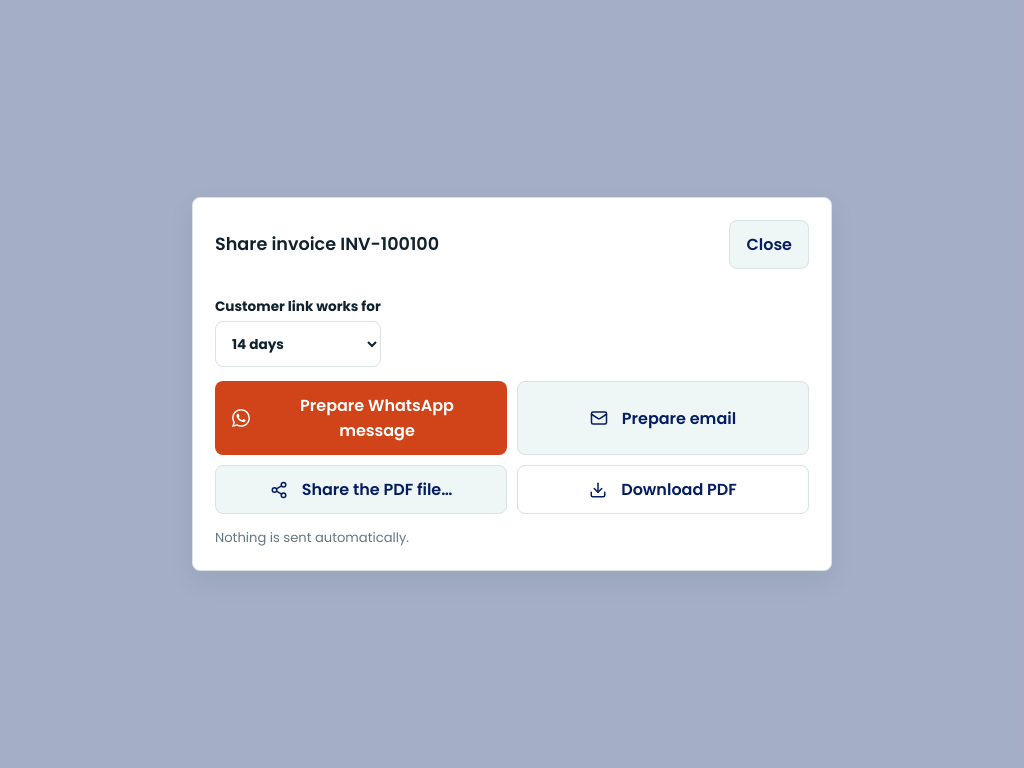
ShareDialog › falls back to download-and-attach when the browser cannot share files
Click the button "Share the PDF file…" at (361, 490), box [215, 465, 507, 514]
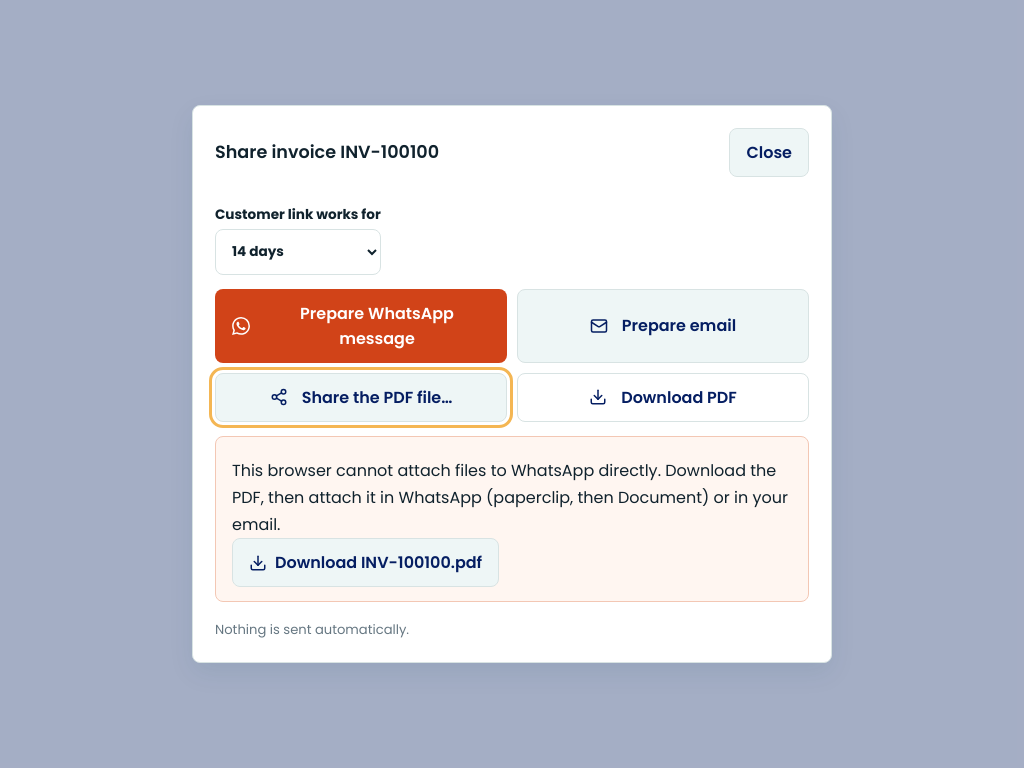
Check: the text "cannot attach files to WhatsApp directly" is shown, box [232, 459, 788, 536]
